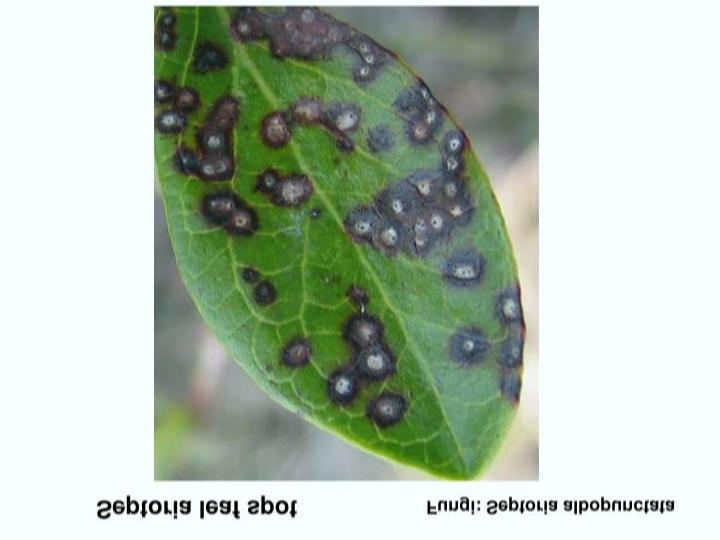Tomato Septoria leaf spot: (157, 15, 529, 477)
